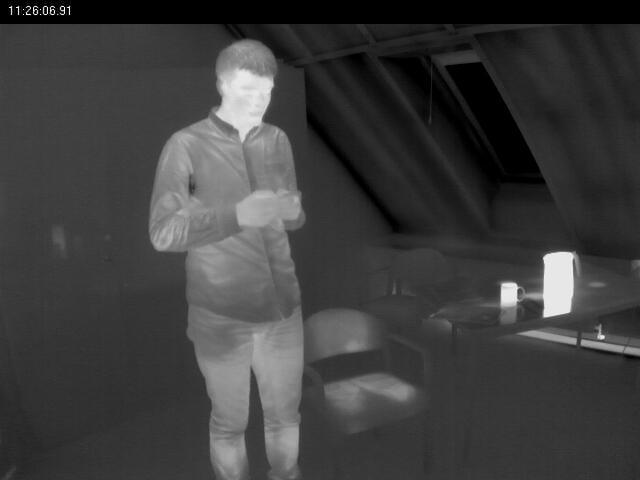person: (143, 31, 320, 480)
